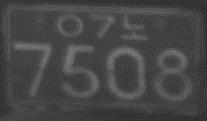0: (105, 44, 146, 100), (56, 11, 84, 37)
5: (61, 43, 100, 98)
7: (12, 40, 53, 97), (87, 11, 114, 38)
8: (152, 47, 192, 103)
노: (120, 14, 147, 41)
